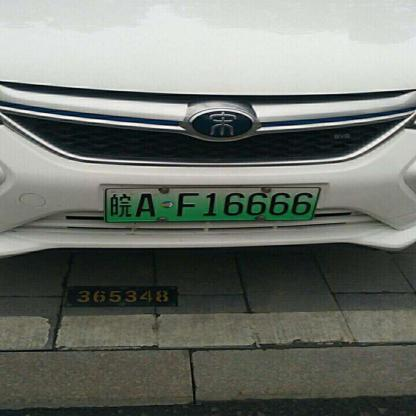lp: (104, 186, 319, 221)
